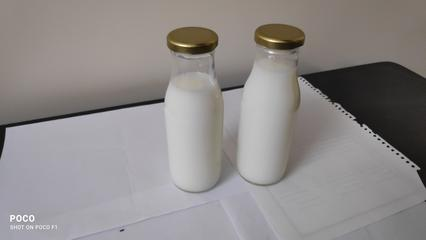milk: (157, 21, 229, 211), (238, 23, 299, 201)
